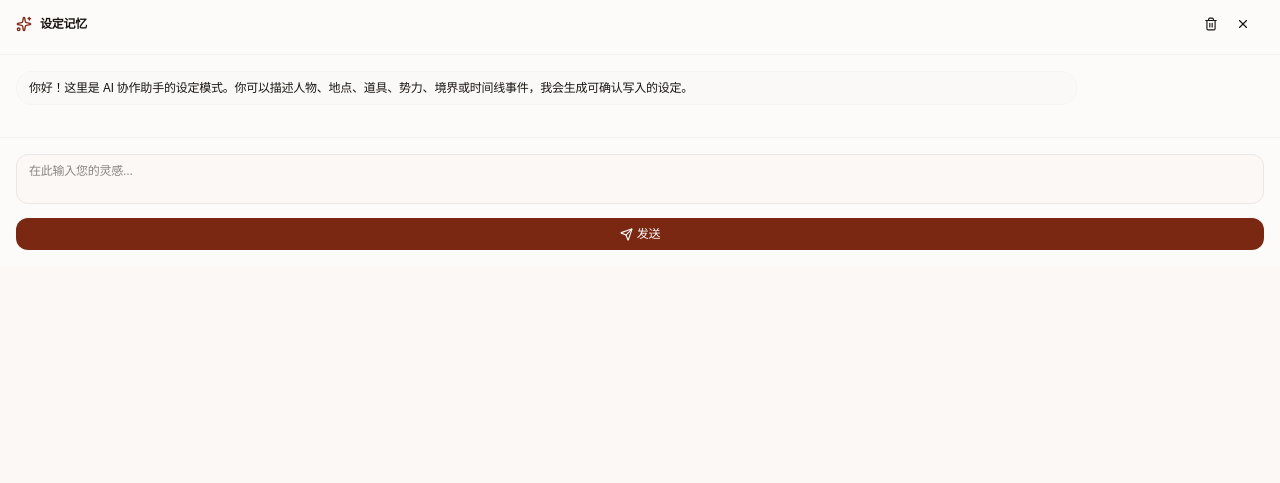
Test case: WorldBibleAssistant continuation batch sync › 普通批量回复不直接写库，并显示后续冲突检查入口
Type "处理资料包中的设定" into the text box named "输入设定灵感" at (640, 179), box 16,154 -> 1264,204
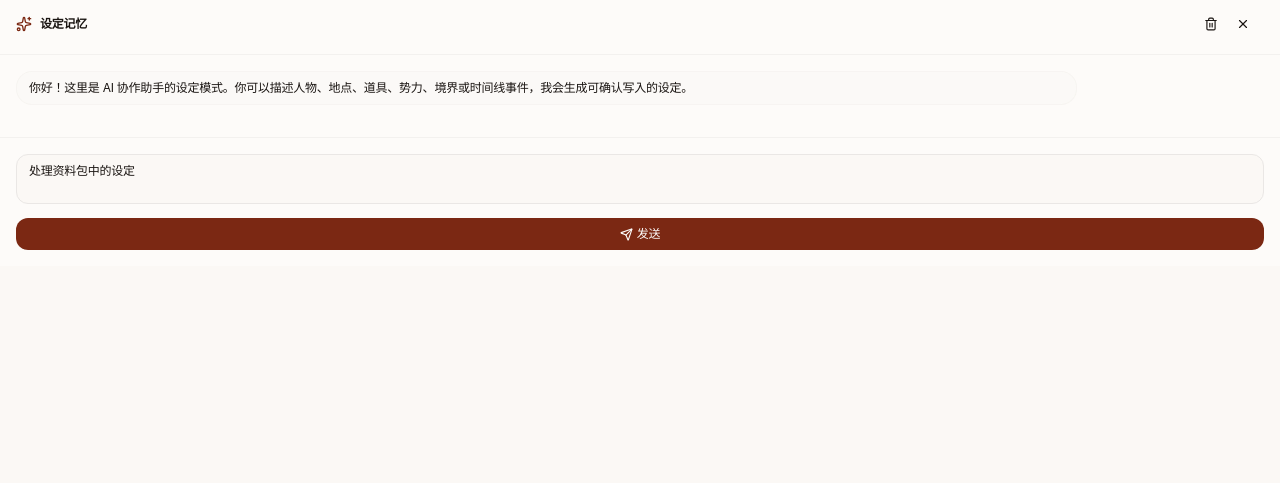
Click the button with aria-label "发送设定灵感" at (640, 234), box 16,218 -> 1264,250
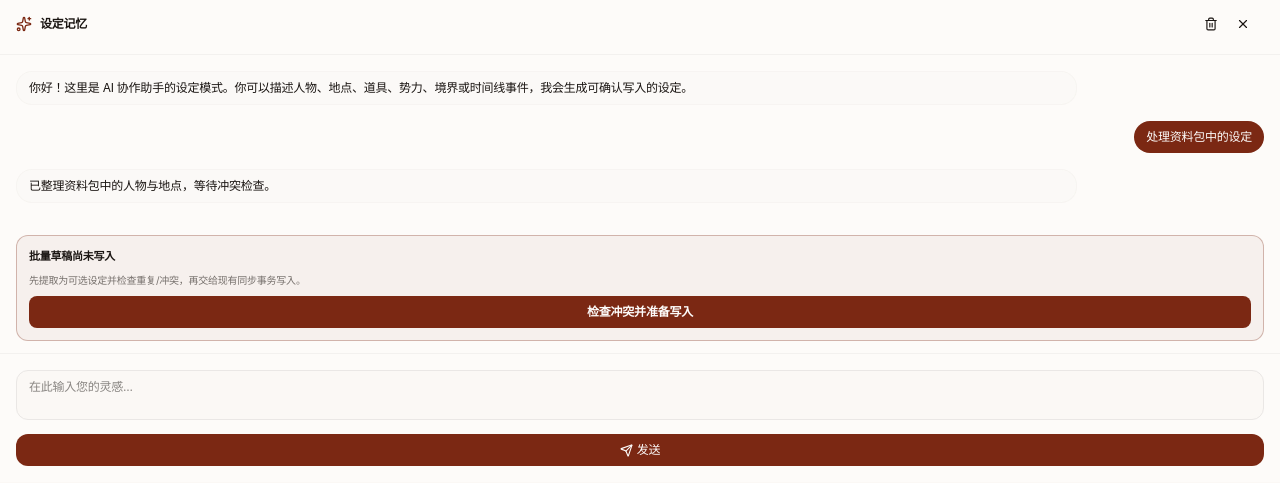
Check: the text "等待冲突检查" is shown, box 29,178 -> 276,193
Check: the button "检查冲突并准备写入" is shown, box 29,296 -> 1251,328
